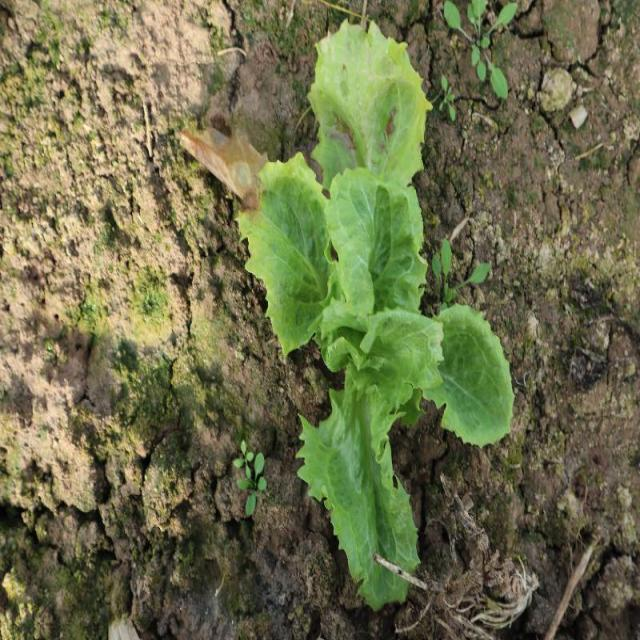crop: (234, 18, 516, 610)
